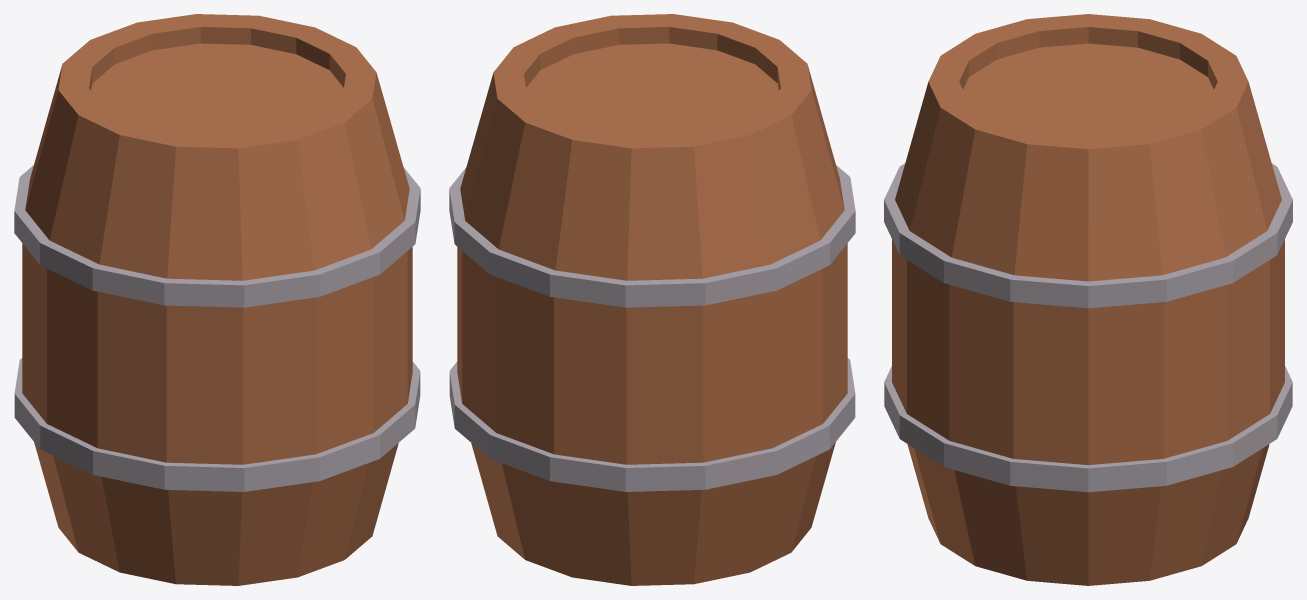
File: barrel.fbx
3 renders of one model, left to right at view 1: azimuth 30°, elevation 25°; view 2: azimuth 150°, elevation 25°; view 3: azimuth 270°, elevation 25°, orthographic.
Parts seen in each view (by area): view 1: Cylinder, Cylinder.001, Cylinder.002; view 2: Cylinder, Cylinder.001, Cylinder.002; view 3: Cylinder, Cylinder.001, Cylinder.002.
Boxes of the visible parts, x1=… form: Cylinder: x1=22, y1=14, x2=412, y2=585; Cylinder.001: x1=14, y1=165, x2=420, y2=307; Cylinder.002: x1=14, y1=358, x2=420, y2=491; Cylinder: x1=457, y1=14, x2=847, y2=585; Cylinder.001: x1=449, y1=165, x2=855, y2=307; Cylinder.002: x1=449, y1=358, x2=855, y2=491; Cylinder: x1=892, y1=14, x2=1284, y2=585; Cylinder.001: x1=884, y1=163, x2=1292, y2=308; Cylinder.002: x1=884, y1=366, x2=1292, y2=492.
Bounding box in the file's own units: 255 × 301 × 255.
